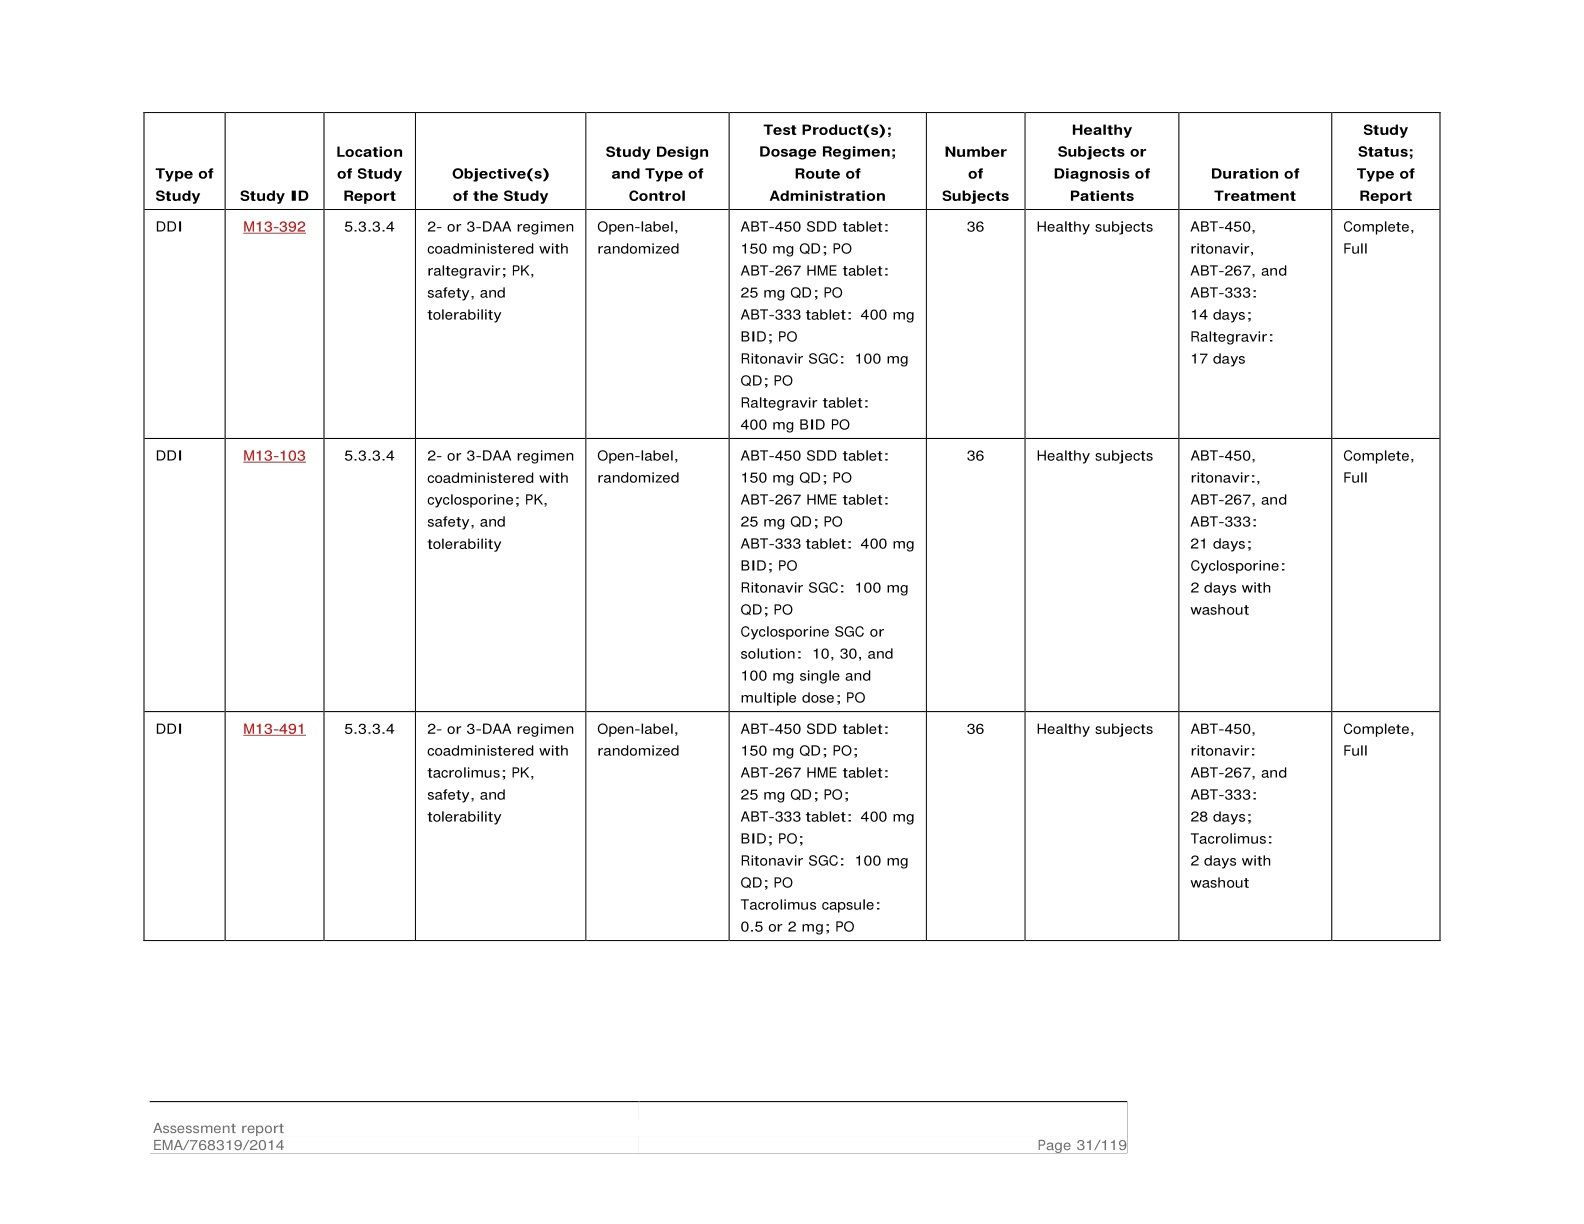full_lined: (141, 111, 1441, 942)
